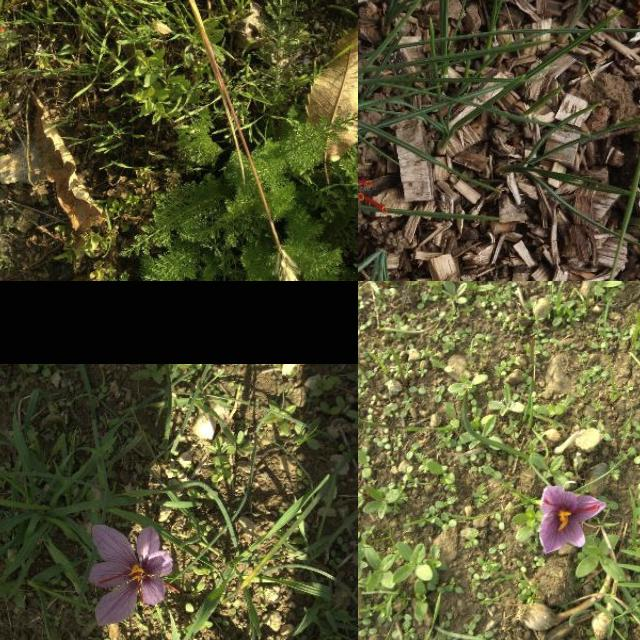flower: (89, 525, 183, 627), (540, 488, 604, 554), (358, 110, 385, 234)
